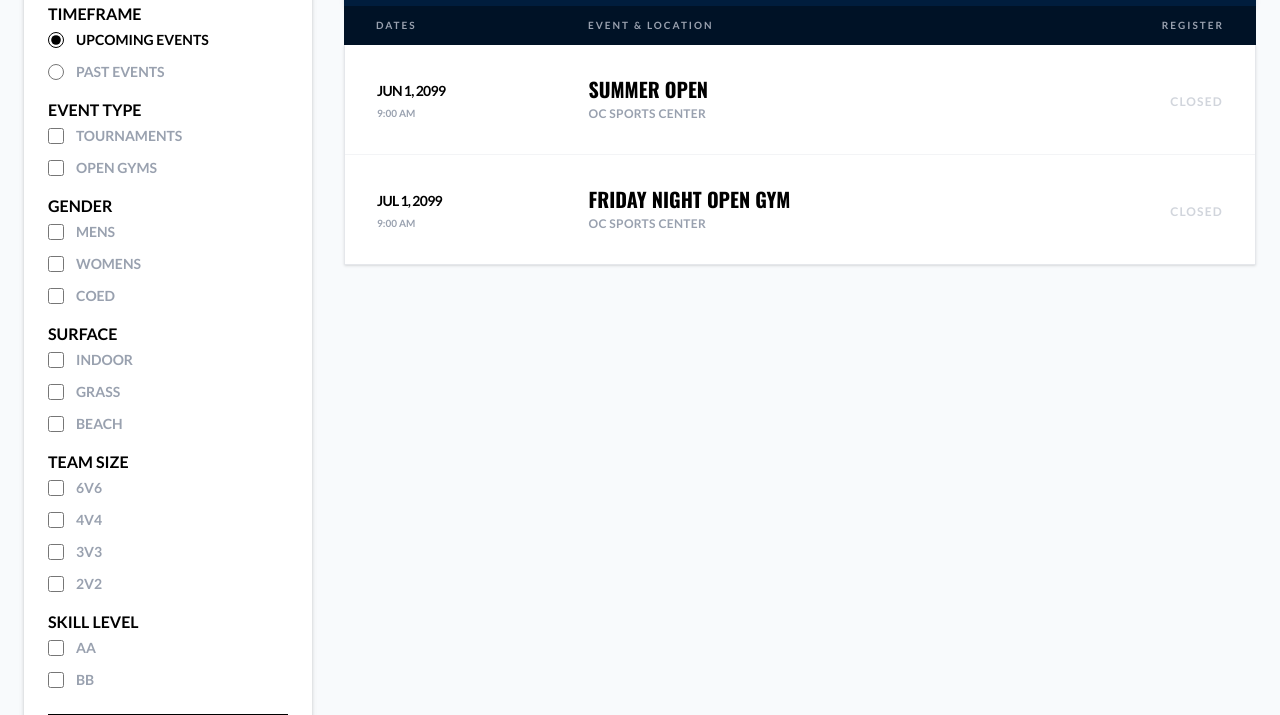
Scenario: EventList › filter — surface › hides beach events when Indoor is checked
The width and height of the screenshot is (1280, 715).
(page scrolled)
Click the checkbox labelled "Indoor".
click(56, 360)  # box [48,352,64,368]
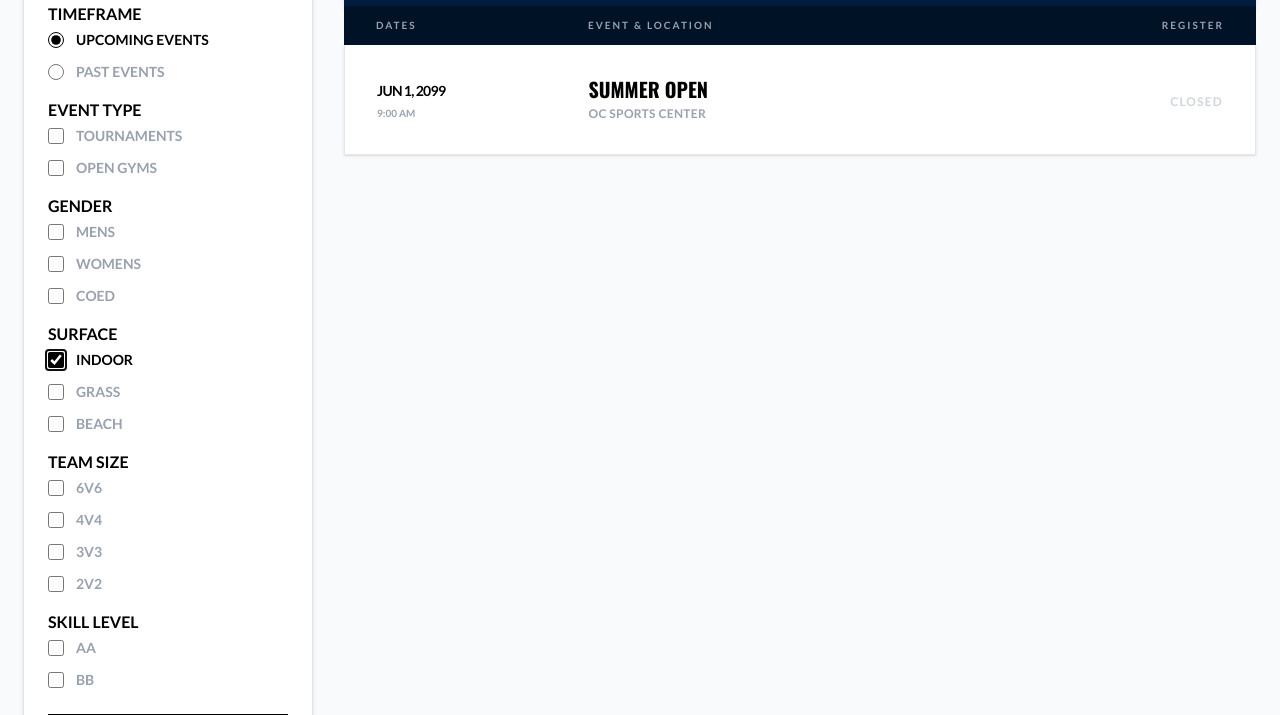
Check: the heading "Summer Open" is shown, box [588,74,708,104]
Check: the link "Friday Night Open Gym" is gone
